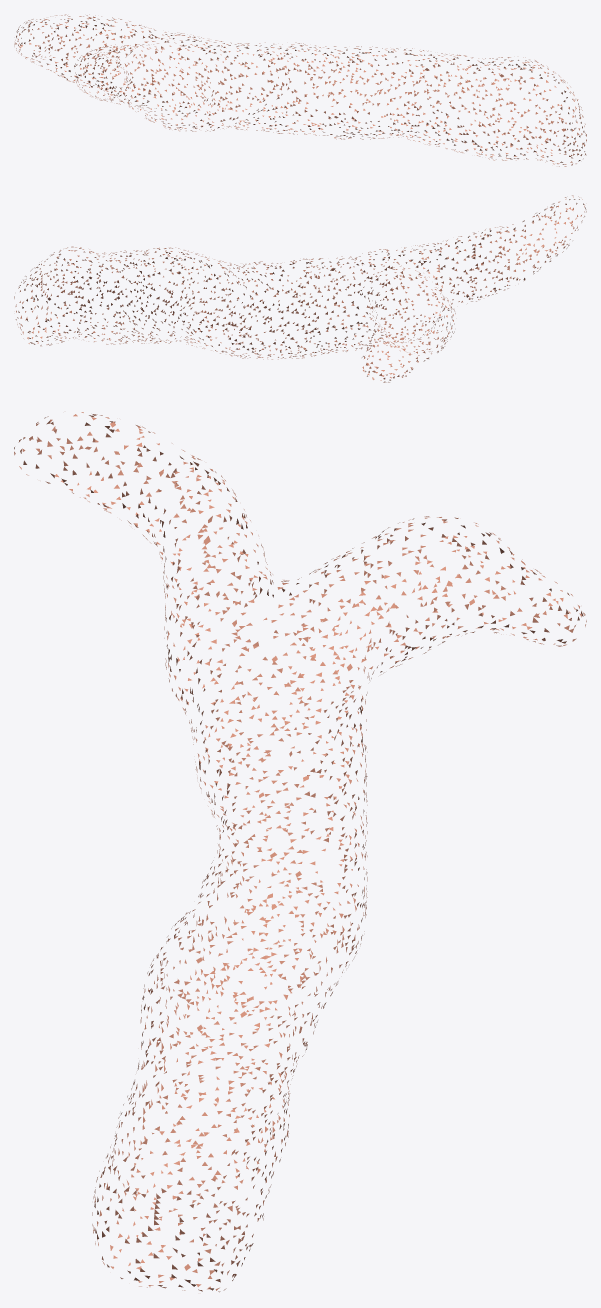
The model's file is morph_003.glb.
3 views of the same model, one above another, from view 1: azimuth 30°, elevation 25°; view 2: azimuth 150°, elevation 25°; view 3: azimuth 270°, elevation 25° (orthographic). The views are drawn at different scales.
Size of the model in its own units: 134 by 58.75 by 69.15.
